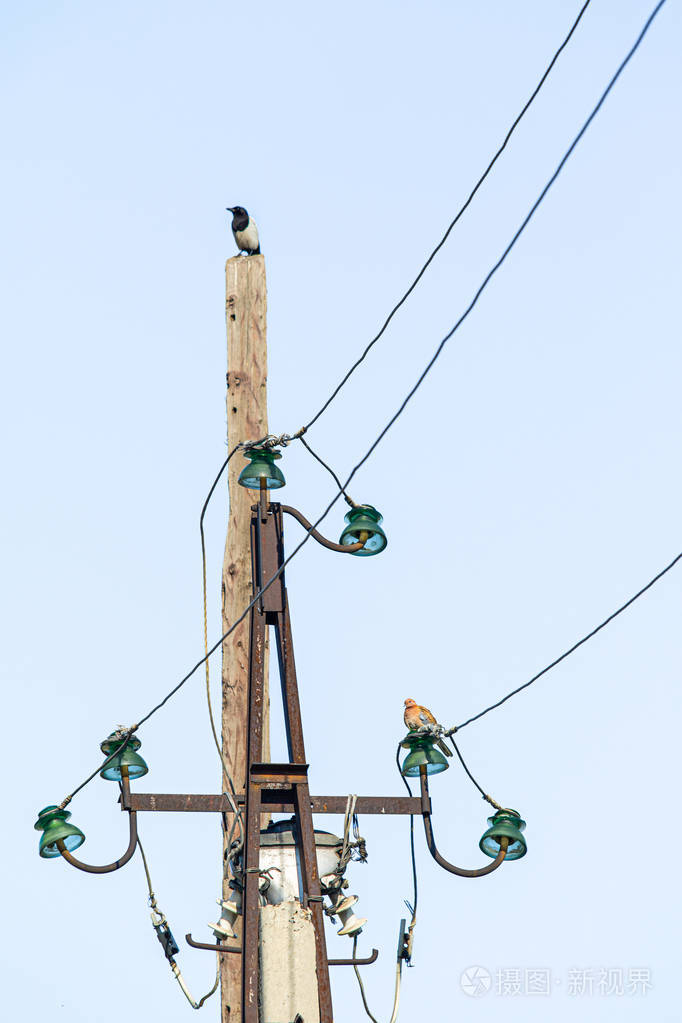insulator: (481, 806, 529, 871), (31, 805, 89, 855), (394, 732, 450, 778), (235, 445, 289, 489), (100, 730, 149, 778), (335, 506, 389, 548), (331, 893, 369, 938)
